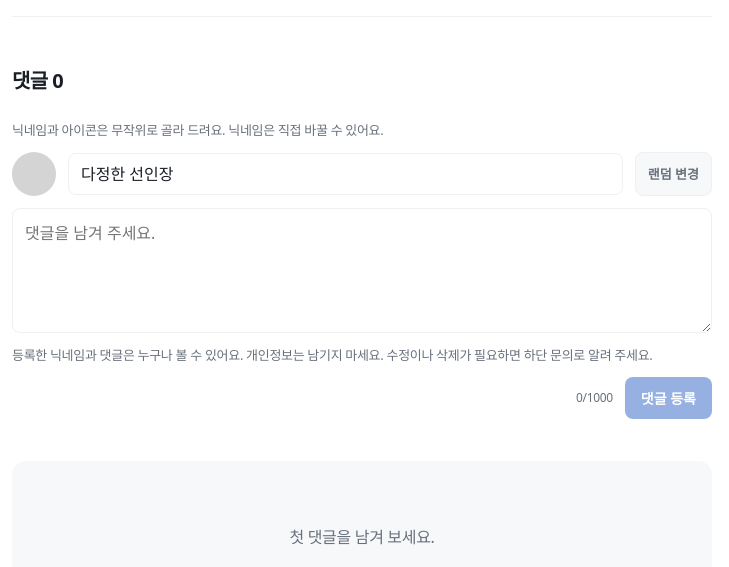
Scenario: CommentsSection pending requests › ignores repeated submissions while the first request is pending
Type "한 번만 등록" into the text box named "댓글 내용" at {"x": 362, "y": 271}, box left=12, top=208, right=712, bottom=333
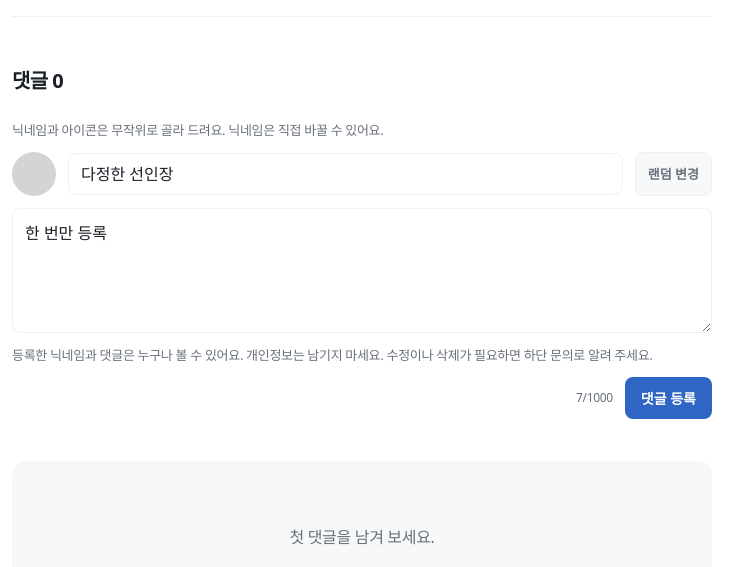
Submit the form, box left=12, top=120, right=712, bottom=420
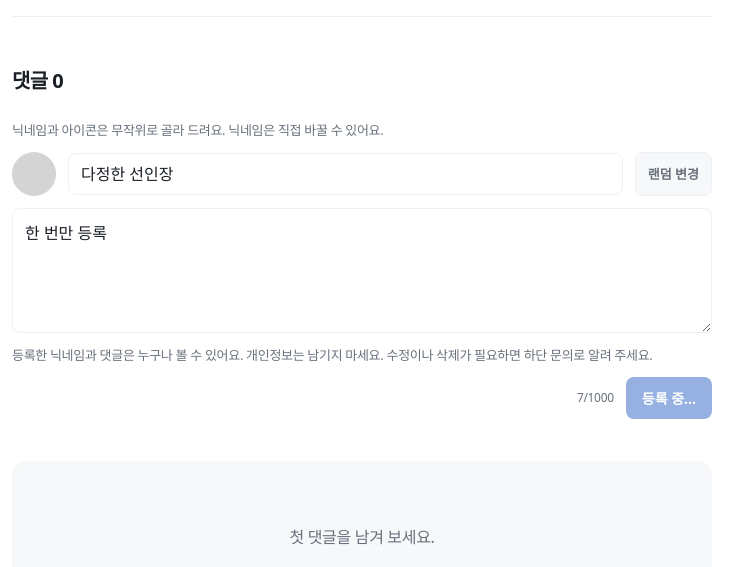
Submit the form, box left=12, top=120, right=712, bottom=420
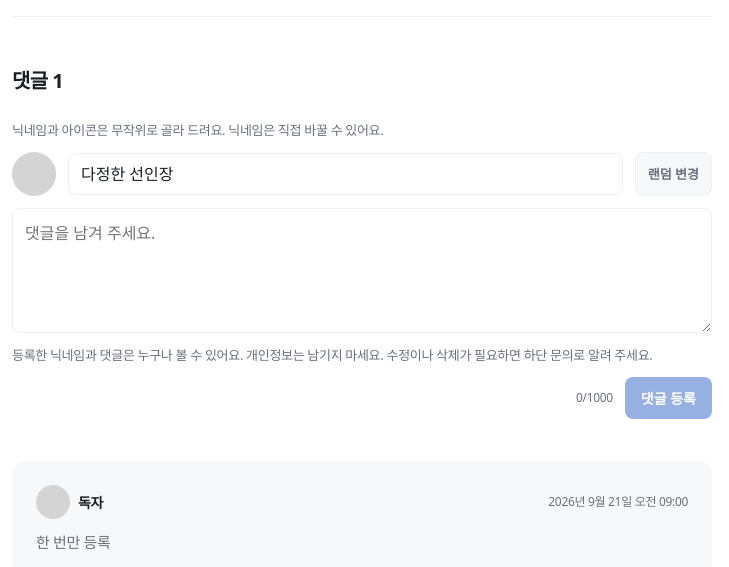
Check: the text box named "댓글 내용" is empty, box left=12, top=208, right=712, bottom=333
Check: the heading "댓글 1" is shown, box left=12, top=67, right=63, bottom=94
